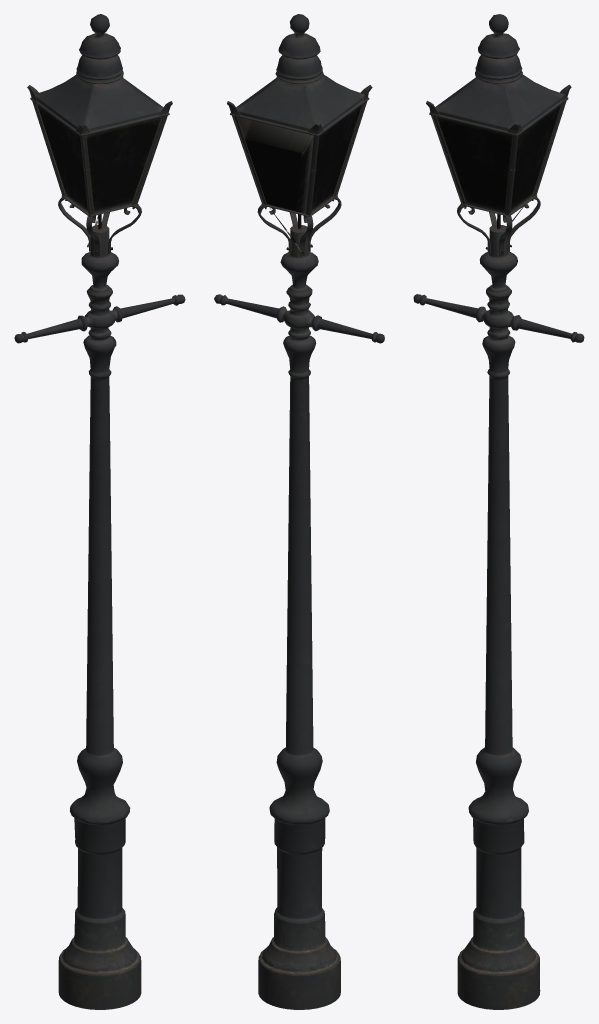
File: street_lamp_01.gltf
The picture shows the model from 3 angles, left to right: view 1: azimuth 30°, elevation 25°; view 2: azimuth 150°, elevation 25°; view 3: azimuth 330°, elevation 25°; orthographic projection.
Parts seen in each view (by area): view 1: street_lamp_01; view 2: street_lamp_01; view 3: street_lamp_01.
Part boxes in pixels (left/top/right/bottom): street_lamp_01: left=14, top=14, right=185, bottom=1009; street_lamp_01: left=214, top=14, right=384, bottom=1009; street_lamp_01: left=413, top=14, right=584, bottom=1009.
Size of the model in its own units: 0.7031 by 3.87 by 0.3863.
3 materials, 3 textured.
